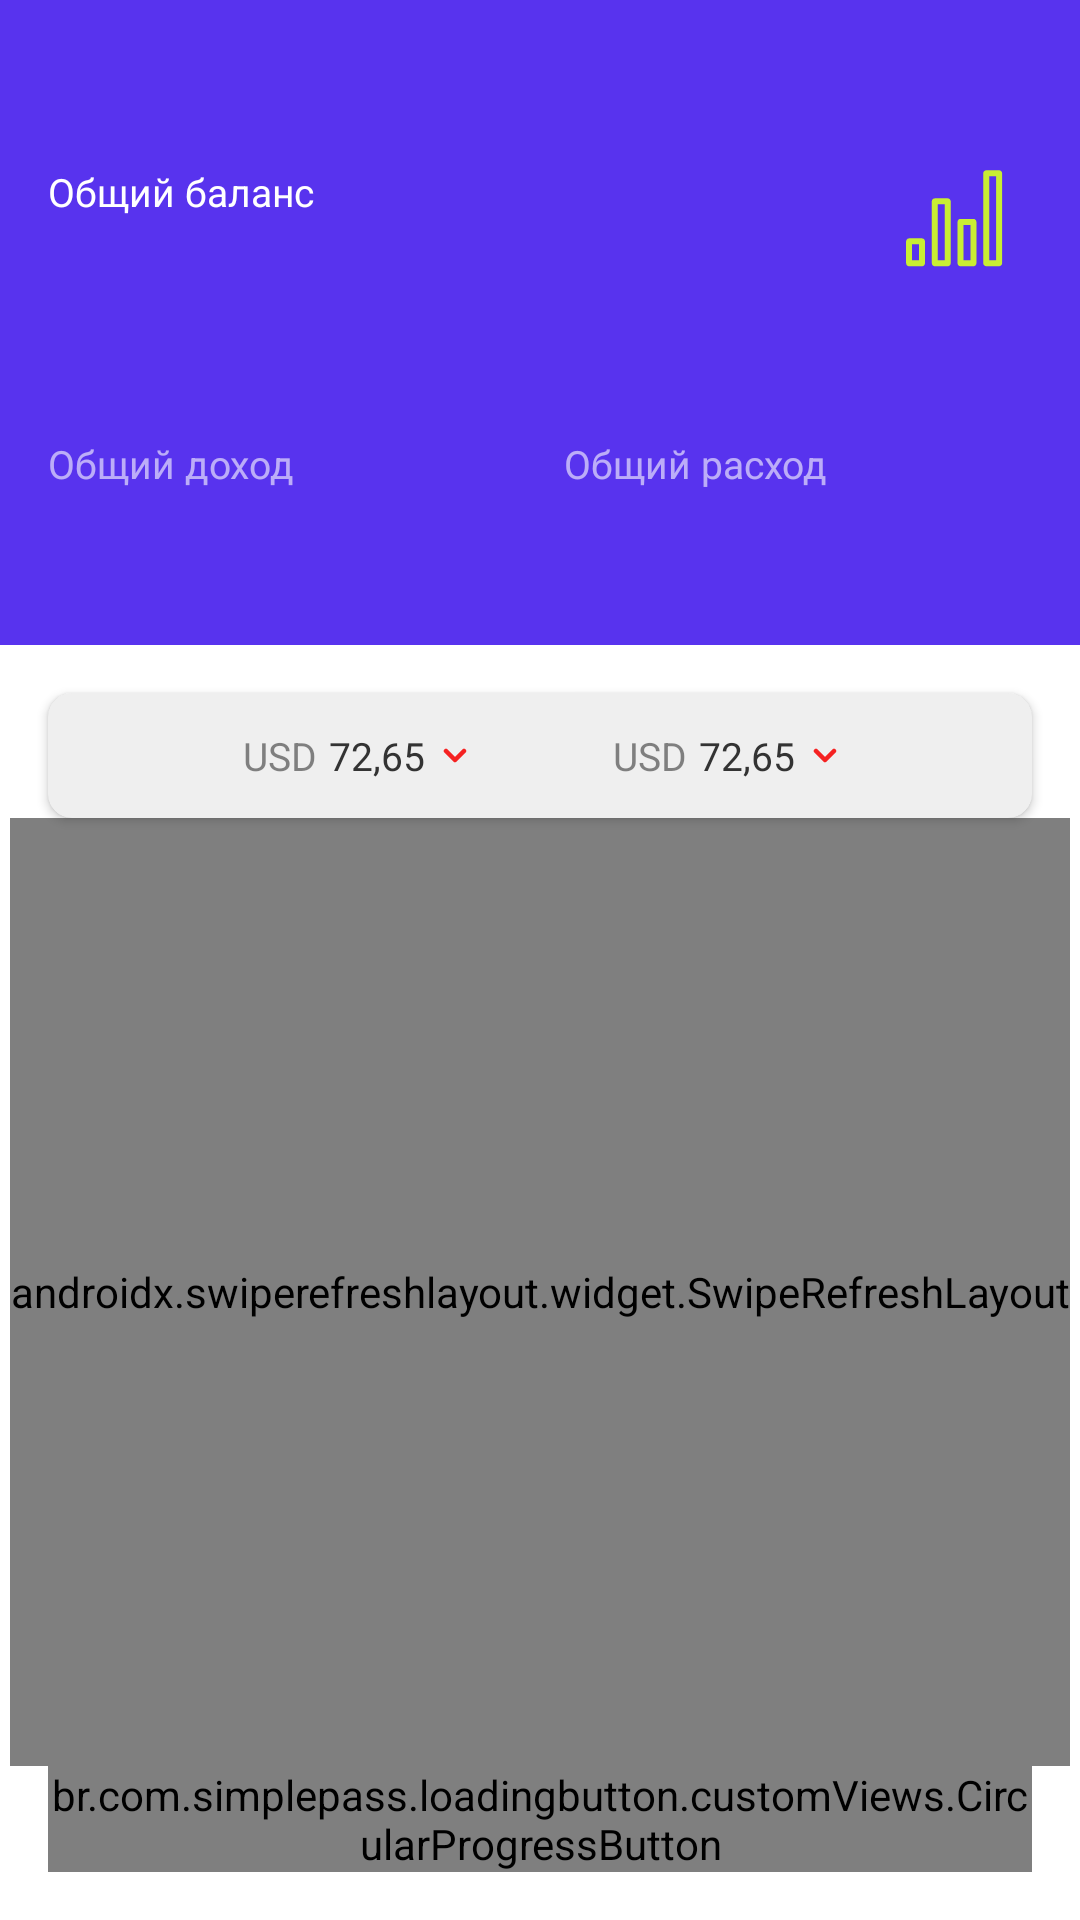

Where to tap for icons on this 1080 x 1920 app screen, as point (x, y):
stats: point (954, 218)
